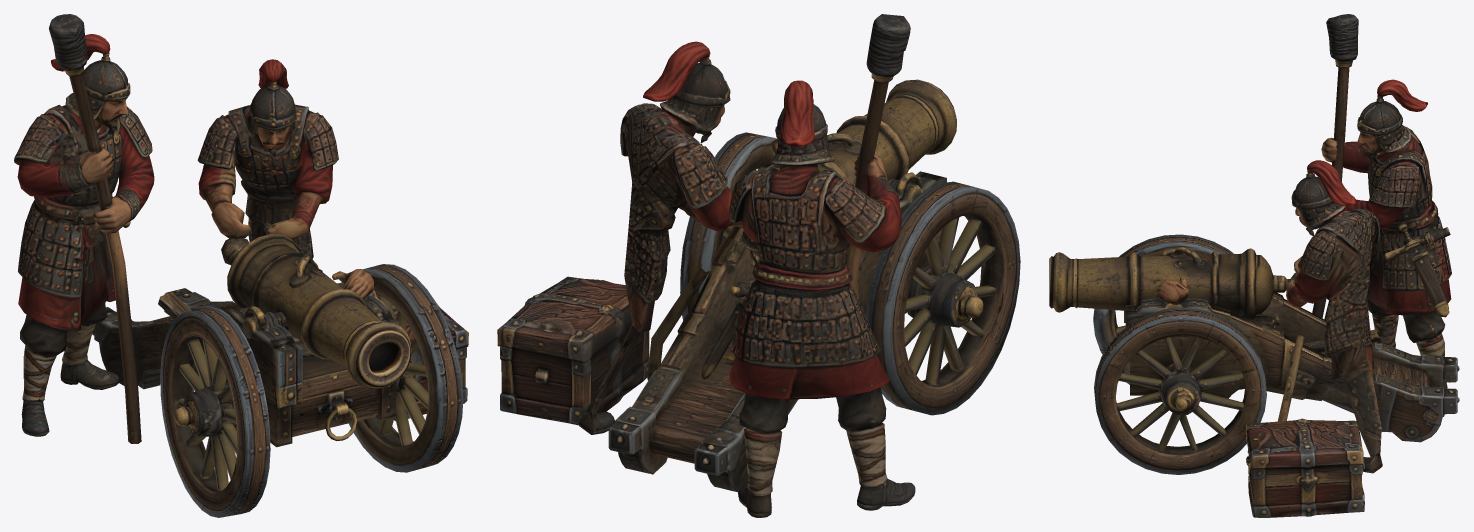
File: cannon-siege.glb
3 views of the same model, side by side, from view 1: azimuth 30°, elevation 25°; view 2: azimuth 150°, elevation 25°; view 3: azimuth 270°, elevation 25° (orthographic). The views are drawn at different scales.
Parts seen in each view (by area): view 1: tripo_1d10b4c9_2f99_46df_b486_c1c639bc33d9; view 2: tripo_1d10b4c9_2f99_46df_b486_c1c639bc33d9; view 3: tripo_1d10b4c9_2f99_46df_b486_c1c639bc33d9.
Part boxes in pixels (x1,y1,x2,y2): tripo_1d10b4c9_2f99_46df_b486_c1c639bc33d9: (14,14,468,517); tripo_1d10b4c9_2f99_46df_b486_c1c639bc33d9: (497,14,1020,517); tripo_1d10b4c9_2f99_46df_b486_c1c639bc33d9: (1049,14,1459,517).
Size of the model in its own units: 0.897 by 0.9712 by 0.9995.
Materials: 1 (1 with a texture image).
